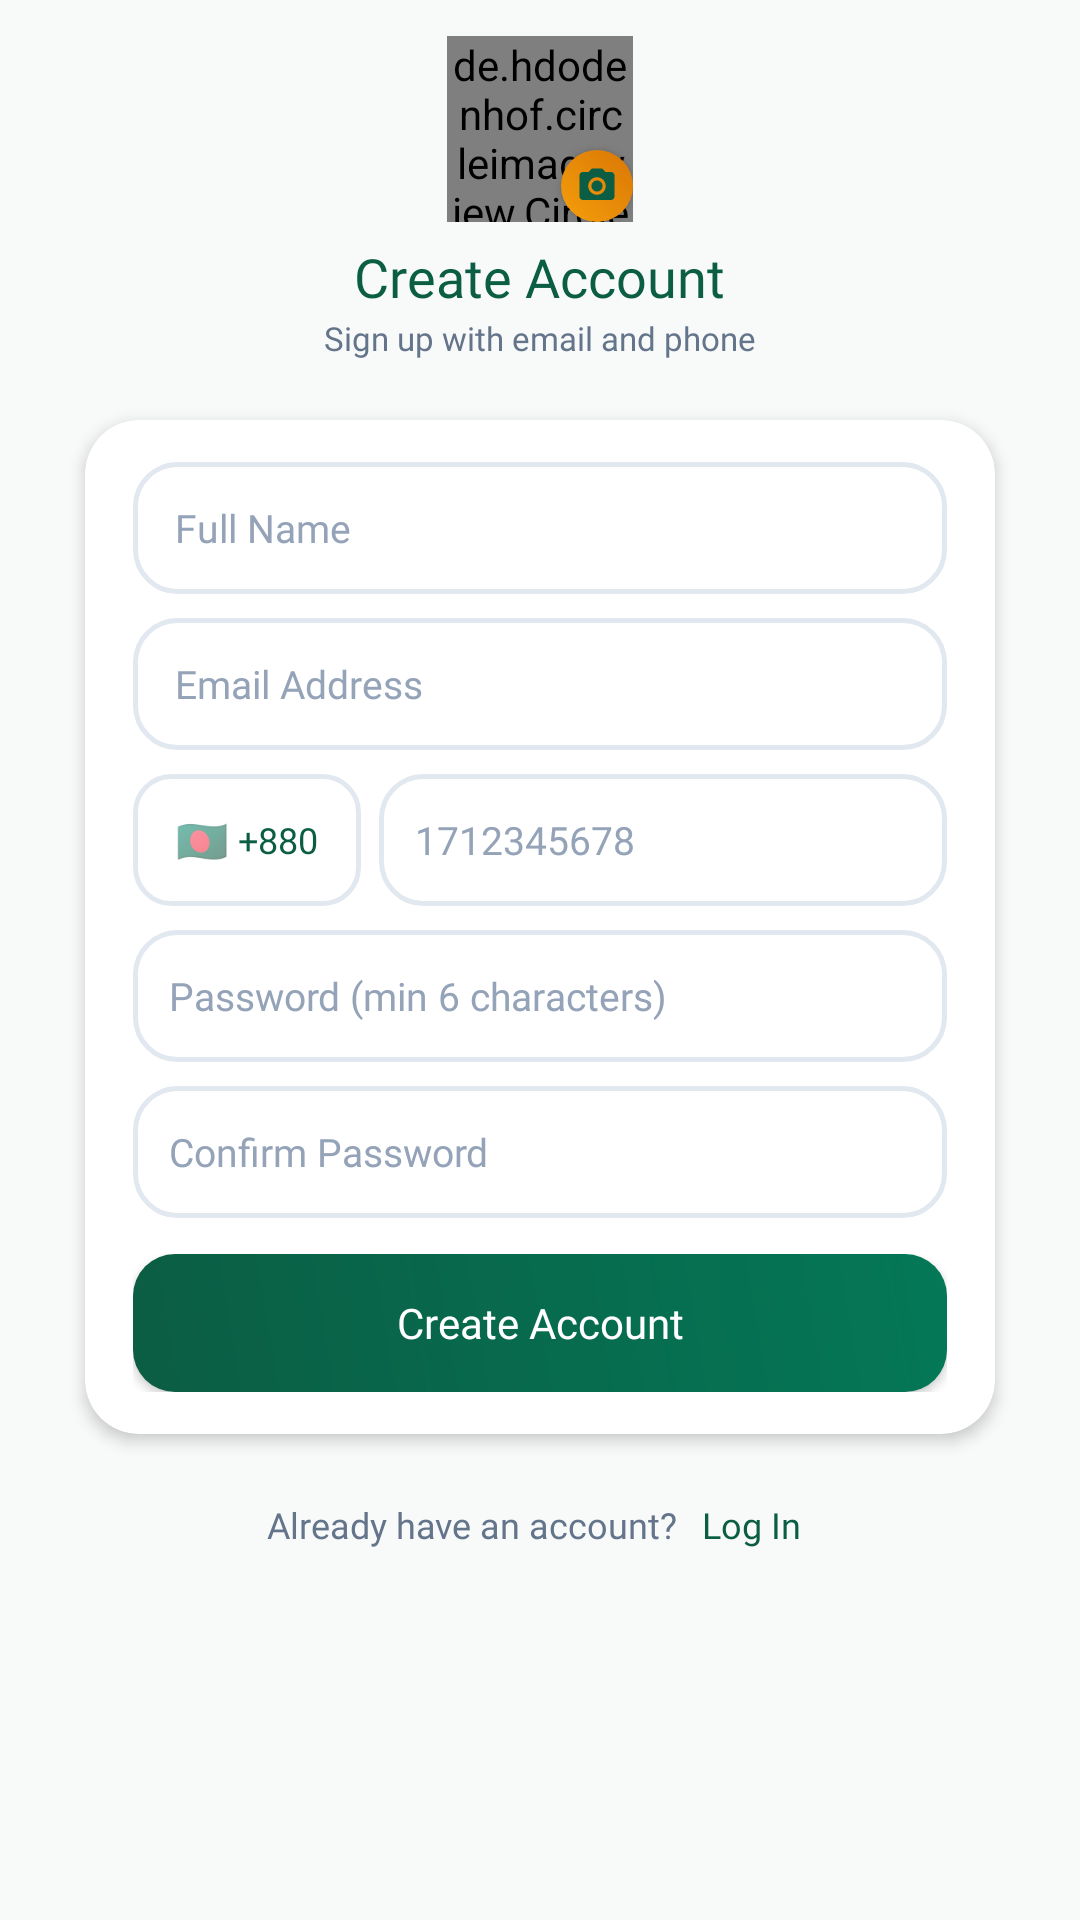

Screen size 1080*1920. Icon name, then its center in pixels as (x,y):
Pick Avatar: (597,186)
